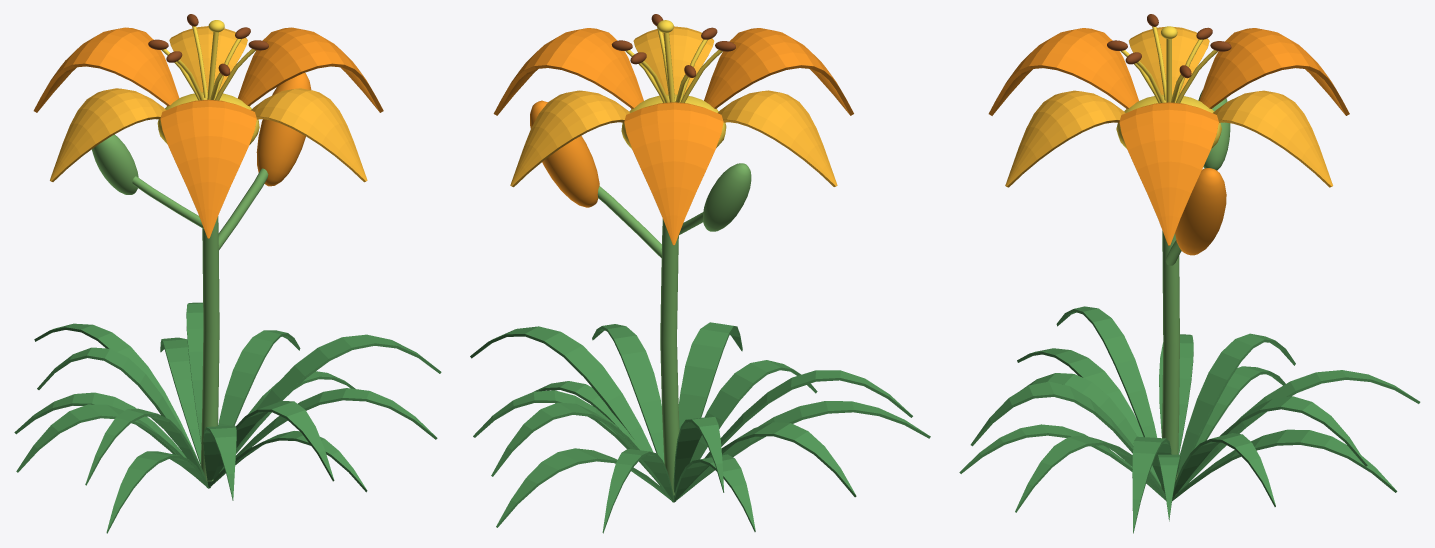
File: daylily-bloom.glb
The picture shows the model from 3 angles, left to right: view 1: azimuth 30°, elevation 25°; view 2: azimuth 150°, elevation 25°; view 3: azimuth 270°, elevation 25°; orthographic projection. The views are drawn at different scales.
Parts seen in each view (by area): view 1: petal_5, petal_3, petal_1, petal_6, petal_4, main_stem, leaf_14, daylily_bud, leaf_01, petal_2, leaf_03, leaf_11 (+14 smaller); view 2: petal_3, petal_5, petal_1, petal_2, petal_4, main_stem, leaf_14, leaf_11, leaf_13, daylily_bud, petal_6, leaf_09 (+13 smaller); view 3: petal_1, petal_5, petal_3, petal_6, petal_2, main_stem, daylily_bud, leaf_05, leaf_08, petal_4, leaf_03, leaf_04 (+13 smaller).
Boxes of the visible parts, bbox=[...] form: petal_5: bbox=[160, 99, 256, 238]; petal_3: bbox=[33, 27, 179, 112]; petal_1: bbox=[237, 27, 383, 112]; petal_6: bbox=[251, 88, 367, 182]; petal_4: bbox=[50, 88, 166, 181]; main_stem: bbox=[200, 216, 219, 481]; leaf_14: bbox=[219, 334, 441, 472]; daylily_bud: bbox=[256, 73, 311, 186]; leaf_01: bbox=[218, 330, 300, 426]; petal_2: bbox=[169, 26, 247, 92]; leaf_03: bbox=[160, 337, 201, 464]; leaf_11: bbox=[209, 401, 334, 486]; petal_3: bbox=[624, 102, 723, 245]; petal_5: bbox=[704, 28, 853, 115]; petal_1: bbox=[493, 28, 643, 115]; petal_2: bbox=[510, 90, 629, 187]; petal_4: bbox=[718, 90, 837, 186]; main_stem: bbox=[660, 219, 679, 495]; leaf_14: bbox=[470, 326, 675, 501]; leaf_11: bbox=[673, 322, 742, 502]; leaf_13: bbox=[592, 324, 674, 502]; daylily_bud: bbox=[530, 100, 599, 207]; petal_6: bbox=[633, 26, 714, 94]; leaf_09: bbox=[676, 401, 930, 500]; petal_1: bbox=[1119, 102, 1218, 245]; petal_5: bbox=[988, 28, 1138, 115]; petal_3: bbox=[1199, 28, 1349, 115]; petal_6: bbox=[1005, 90, 1125, 187]; petal_2: bbox=[1213, 90, 1332, 187]; main_stem: bbox=[1161, 231, 1179, 495]; daylily_bud: bbox=[1175, 168, 1226, 255]; leaf_05: bbox=[1178, 333, 1295, 475]; leaf_08: bbox=[1056, 306, 1157, 437]; petal_4: bbox=[1129, 27, 1209, 94]; leaf_03: bbox=[1172, 429, 1397, 501]; leaf_04: bbox=[1178, 370, 1420, 491].
Bounding box in the file's own units: 1.98 × 2.21 × 1.92.
